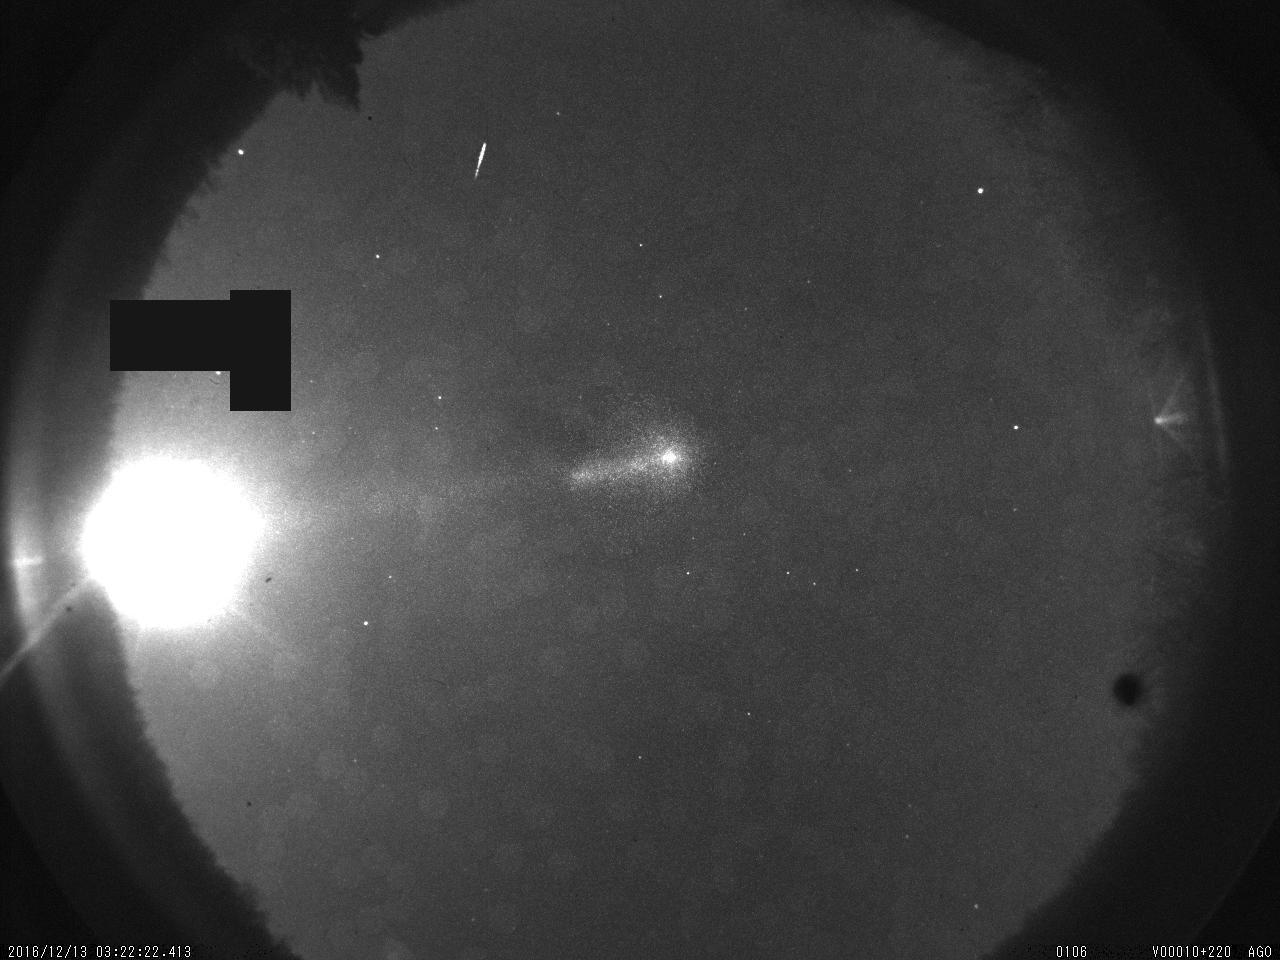meteor: (412, 116, 580, 232)
